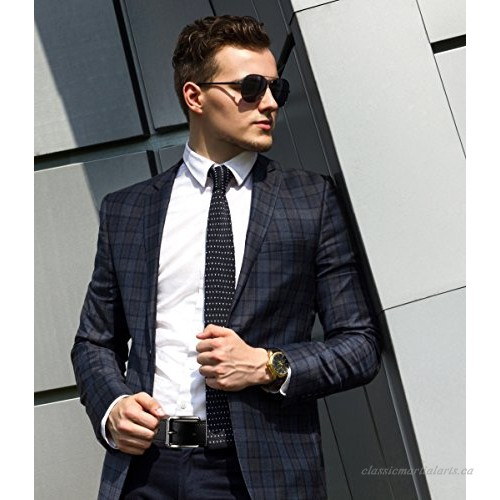F_M_suit jacket: (62, 157, 381, 489)
F_belt: (134, 406, 227, 455)
F_tie: (196, 160, 250, 445)
